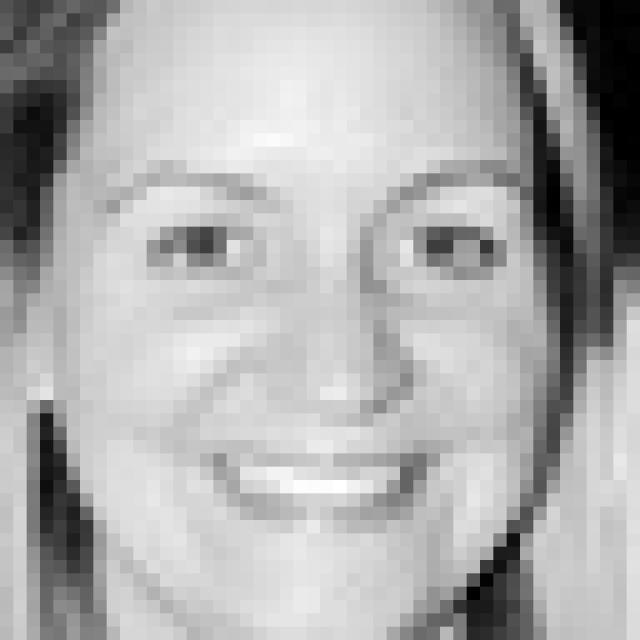happy: (97, 154, 532, 544)
